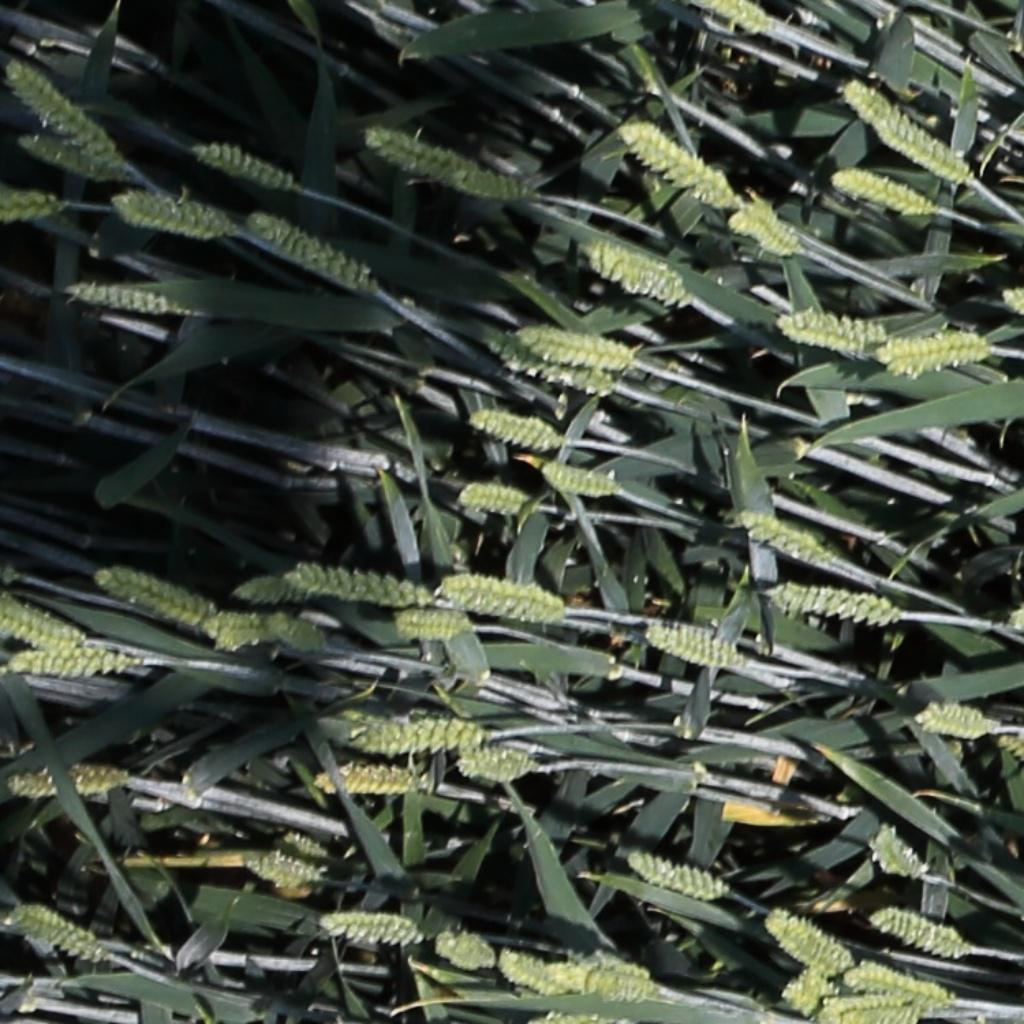0-0: (847, 80, 972, 181), (2, 60, 121, 165), (363, 125, 522, 195), (244, 211, 375, 292), (619, 121, 733, 202), (110, 189, 228, 249), (492, 340, 614, 398), (93, 564, 215, 622), (770, 576, 902, 628), (285, 561, 432, 607), (762, 908, 851, 977), (342, 718, 484, 760), (775, 308, 888, 360), (187, 613, 321, 656), (846, 961, 954, 1013), (738, 513, 836, 570), (9, 906, 103, 962), (585, 248, 686, 300), (20, 131, 126, 178), (871, 906, 968, 957), (828, 167, 931, 215), (876, 335, 990, 378), (439, 580, 562, 619), (188, 140, 293, 185), (547, 959, 653, 1003), (625, 854, 724, 901), (1, 646, 133, 679), (319, 909, 426, 947), (517, 329, 629, 363), (645, 628, 742, 667), (66, 281, 173, 316), (3, 769, 129, 798), (466, 409, 559, 447), (311, 763, 427, 793), (868, 824, 925, 883), (729, 206, 798, 253), (453, 747, 541, 783), (1, 607, 80, 647), (914, 701, 995, 739), (496, 953, 566, 995), (820, 995, 921, 1024), (232, 576, 311, 609), (537, 462, 618, 494), (782, 979, 843, 1021), (711, 0, 779, 35), (0, 190, 61, 228), (263, 614, 324, 652), (247, 858, 319, 886), (432, 936, 495, 966), (456, 488, 524, 510), (278, 832, 327, 862), (391, 617, 468, 633), (999, 288, 1024, 322), (1008, 611, 1024, 630)
